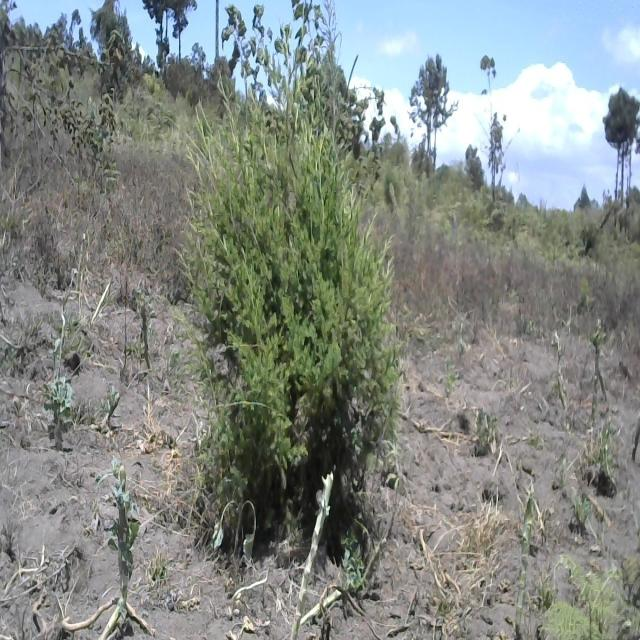Juniperus procesera: (182, 50, 398, 567)
